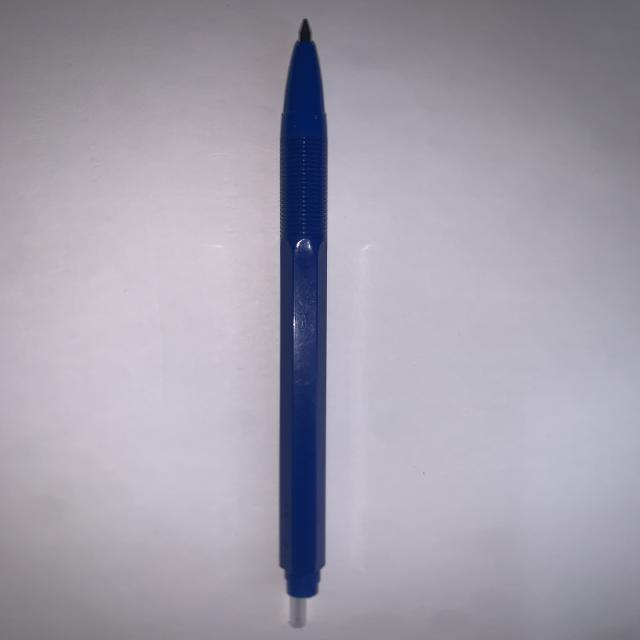Pulpen: (265, 18, 345, 640)
